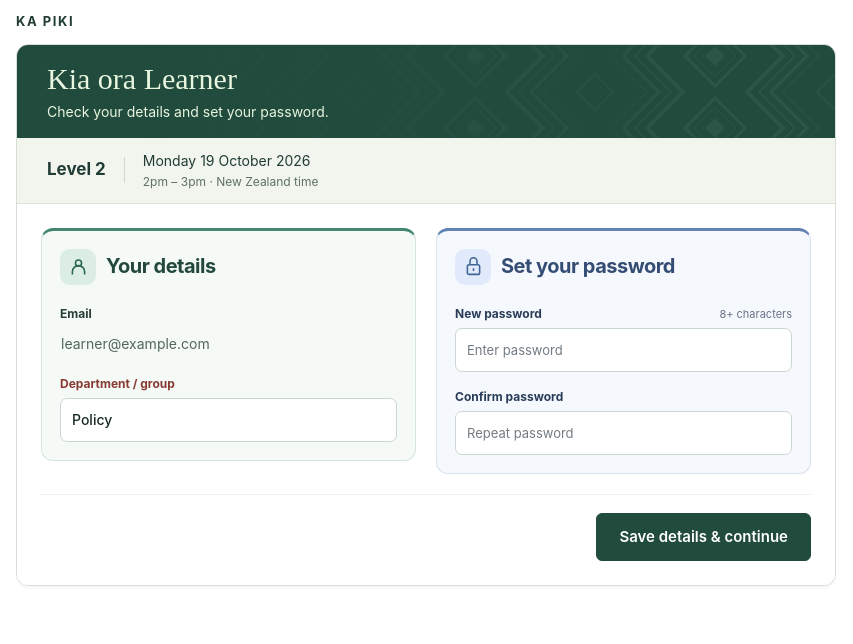
does not submit mismatched passwords and preserves the entered details
The image size is (853, 644).
Type "test-only-password" into the password field named "password".
click(624, 350); type("test-only-password")  # box [455, 328, 792, 372]
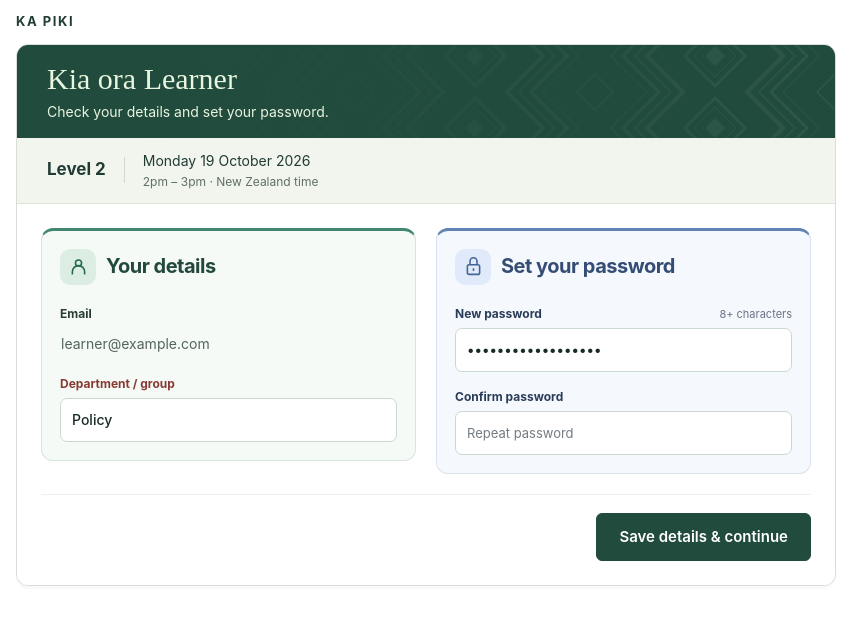
Type "different-test-password" into the password field named "confirmPassword".
click(624, 432); type("different-test-password")  # box [455, 410, 792, 454]
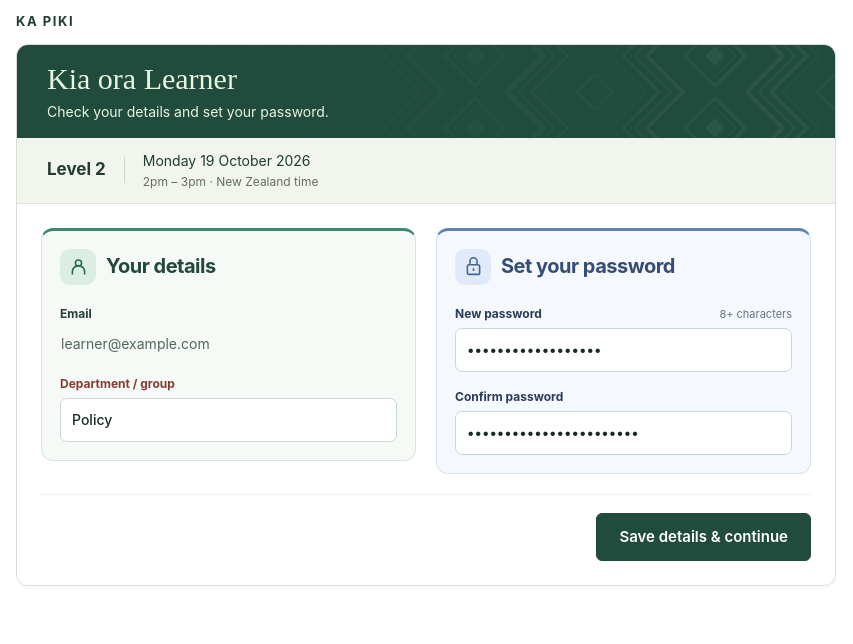
Submit the form, box [17, 204, 835, 585]
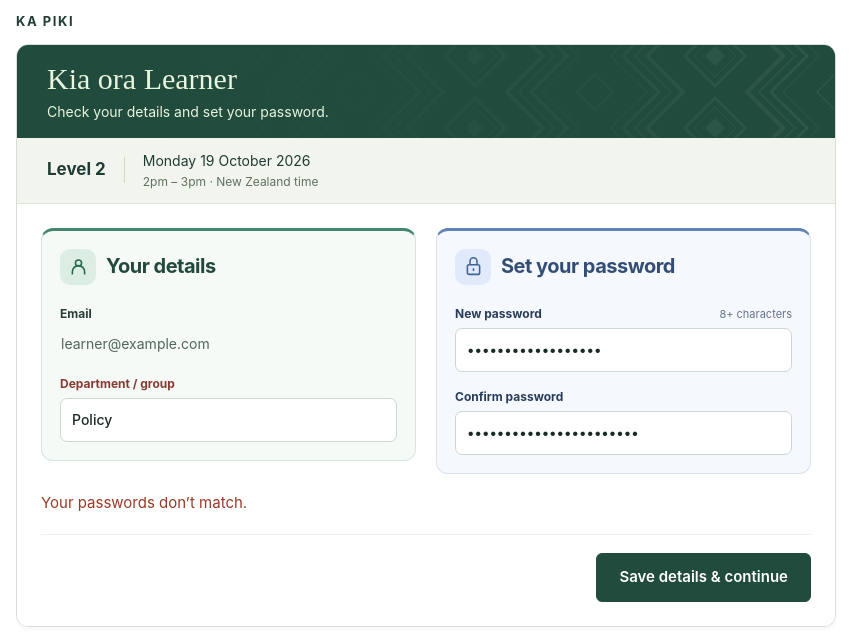
Result: the message "Your passwords don’t match." is shown at [41, 492, 247, 512]
